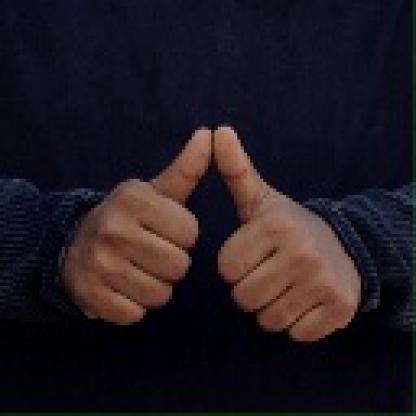A: (51, 126, 367, 333)
